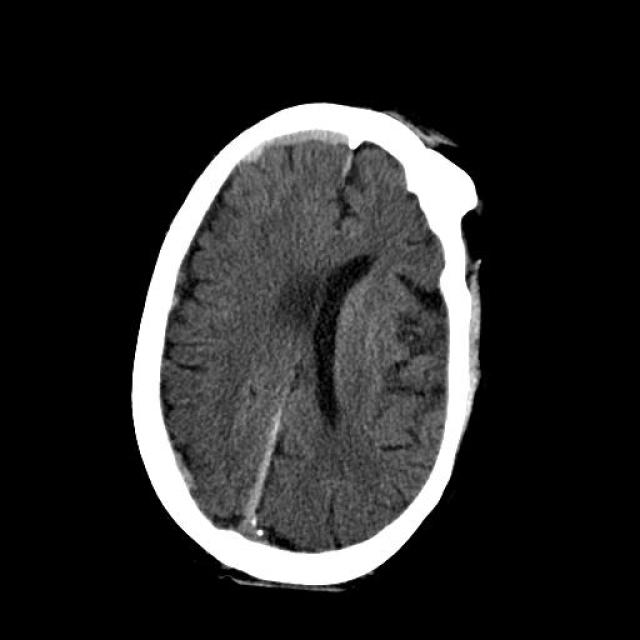Subdural: (226, 385, 292, 561), (228, 112, 358, 190), (158, 445, 214, 504)
